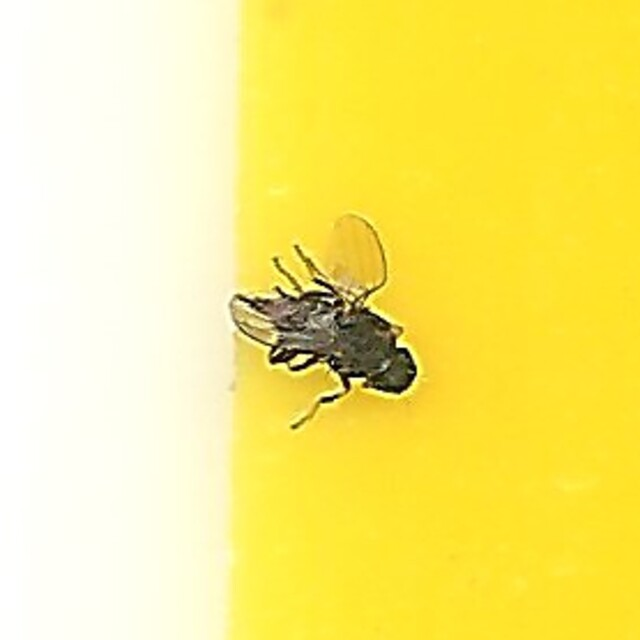Brachycera: (230, 213, 410, 427)
